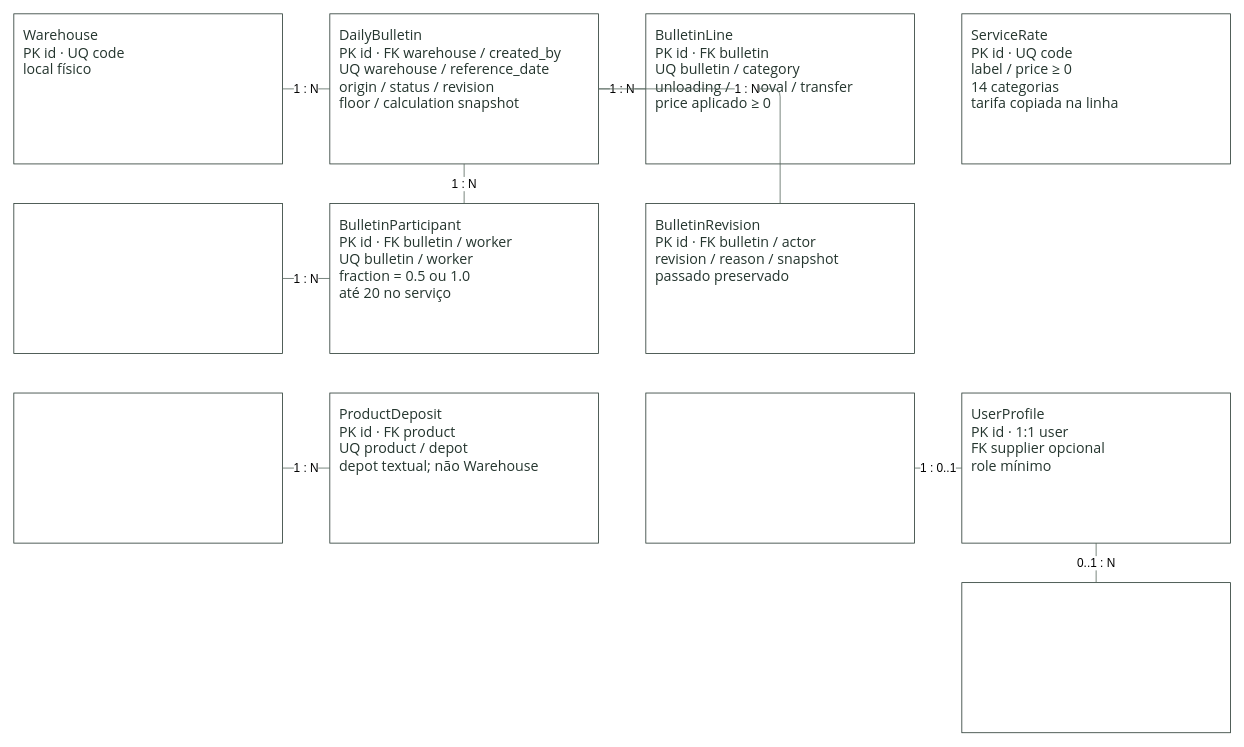
Image size: 1244x747. Some labels were removed from this diagram. The box of each missing label's shape, as (x1, y1, x2, y2) in pixels:
Product PK id · UQ code name / unit / weight / group produto único: (13, 392, 282, 543)
Supplier PK id · UQ code vínculo externo isolado: (961, 582, 1230, 733)
User (Django Auth) PK id autor / permissões: (645, 392, 914, 543)
Worker PK id · UQ registration name / origin: (13, 203, 282, 354)
